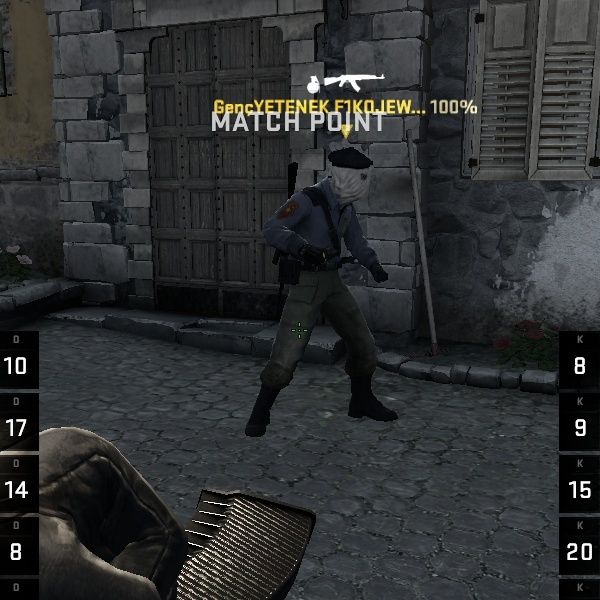ct_body: (232, 144, 394, 437)
ct_head: (315, 139, 380, 198)
